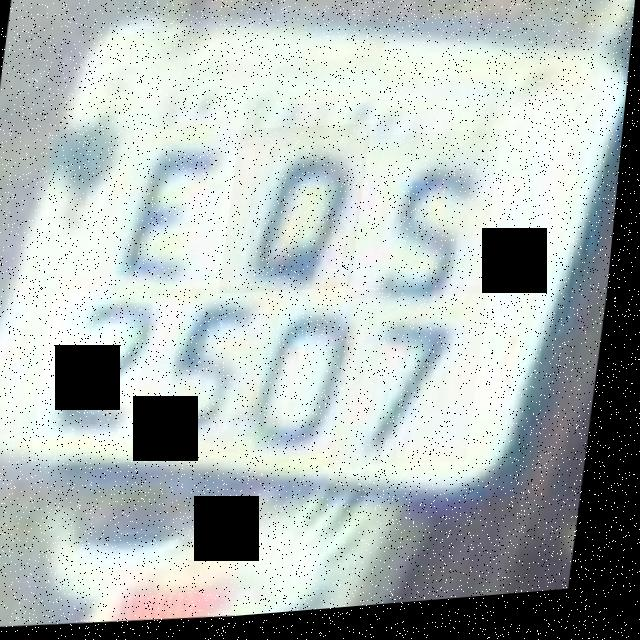0: (237, 276, 398, 477), (224, 125, 375, 303)
2: (38, 286, 190, 472)
5: (350, 133, 505, 311), (138, 284, 289, 465)
7: (336, 289, 496, 478)
E: (96, 133, 235, 305)
